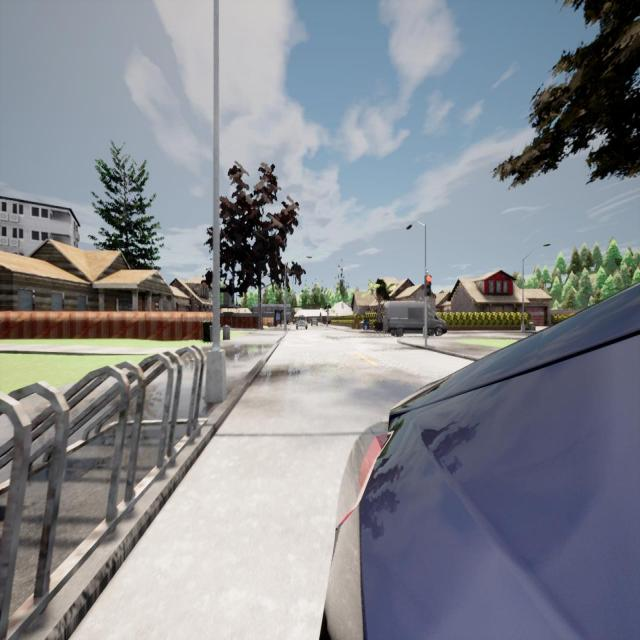Vehicle: (321, 285, 640, 640), (383, 299, 448, 336), (296, 315, 308, 331), (311, 318, 319, 327)
traffic_light: (426, 276, 431, 296)
